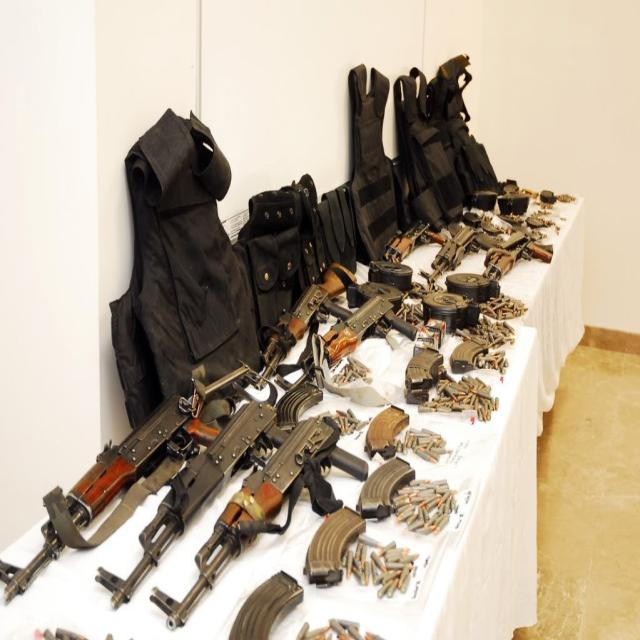firearm: (153, 412, 369, 632), (0, 392, 223, 605), (99, 397, 290, 608), (257, 263, 356, 392), (317, 294, 417, 366), (426, 223, 484, 287), (483, 227, 543, 284), (384, 220, 436, 265)
